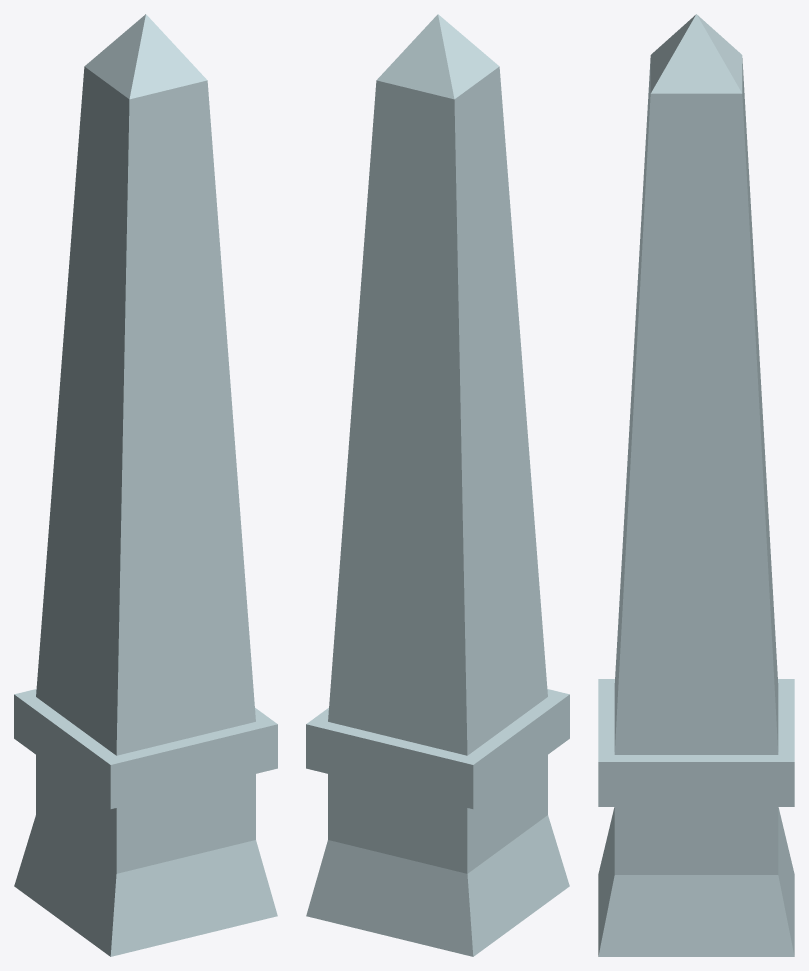
Rendered from pillarObelisk fBlend.fbx.
3 renders of one model, left to right at view 1: azimuth 30°, elevation 25°; view 2: azimuth 150°, elevation 25°; view 3: azimuth 270°, elevation 25°, orthographic.
Visible parts, largest first — view 1: pillarObelisk 1; view 2: pillarObelisk 1; view 3: pillarObelisk 1.
Part boxes in pixels (x1,y1,x2,y2): pillarObelisk 1: [14, 14, 277, 956]; pillarObelisk 1: [306, 14, 569, 956]; pillarObelisk 1: [598, 14, 794, 956].
Size of the model in its own units: 20.62 by 105 by 20.62.
